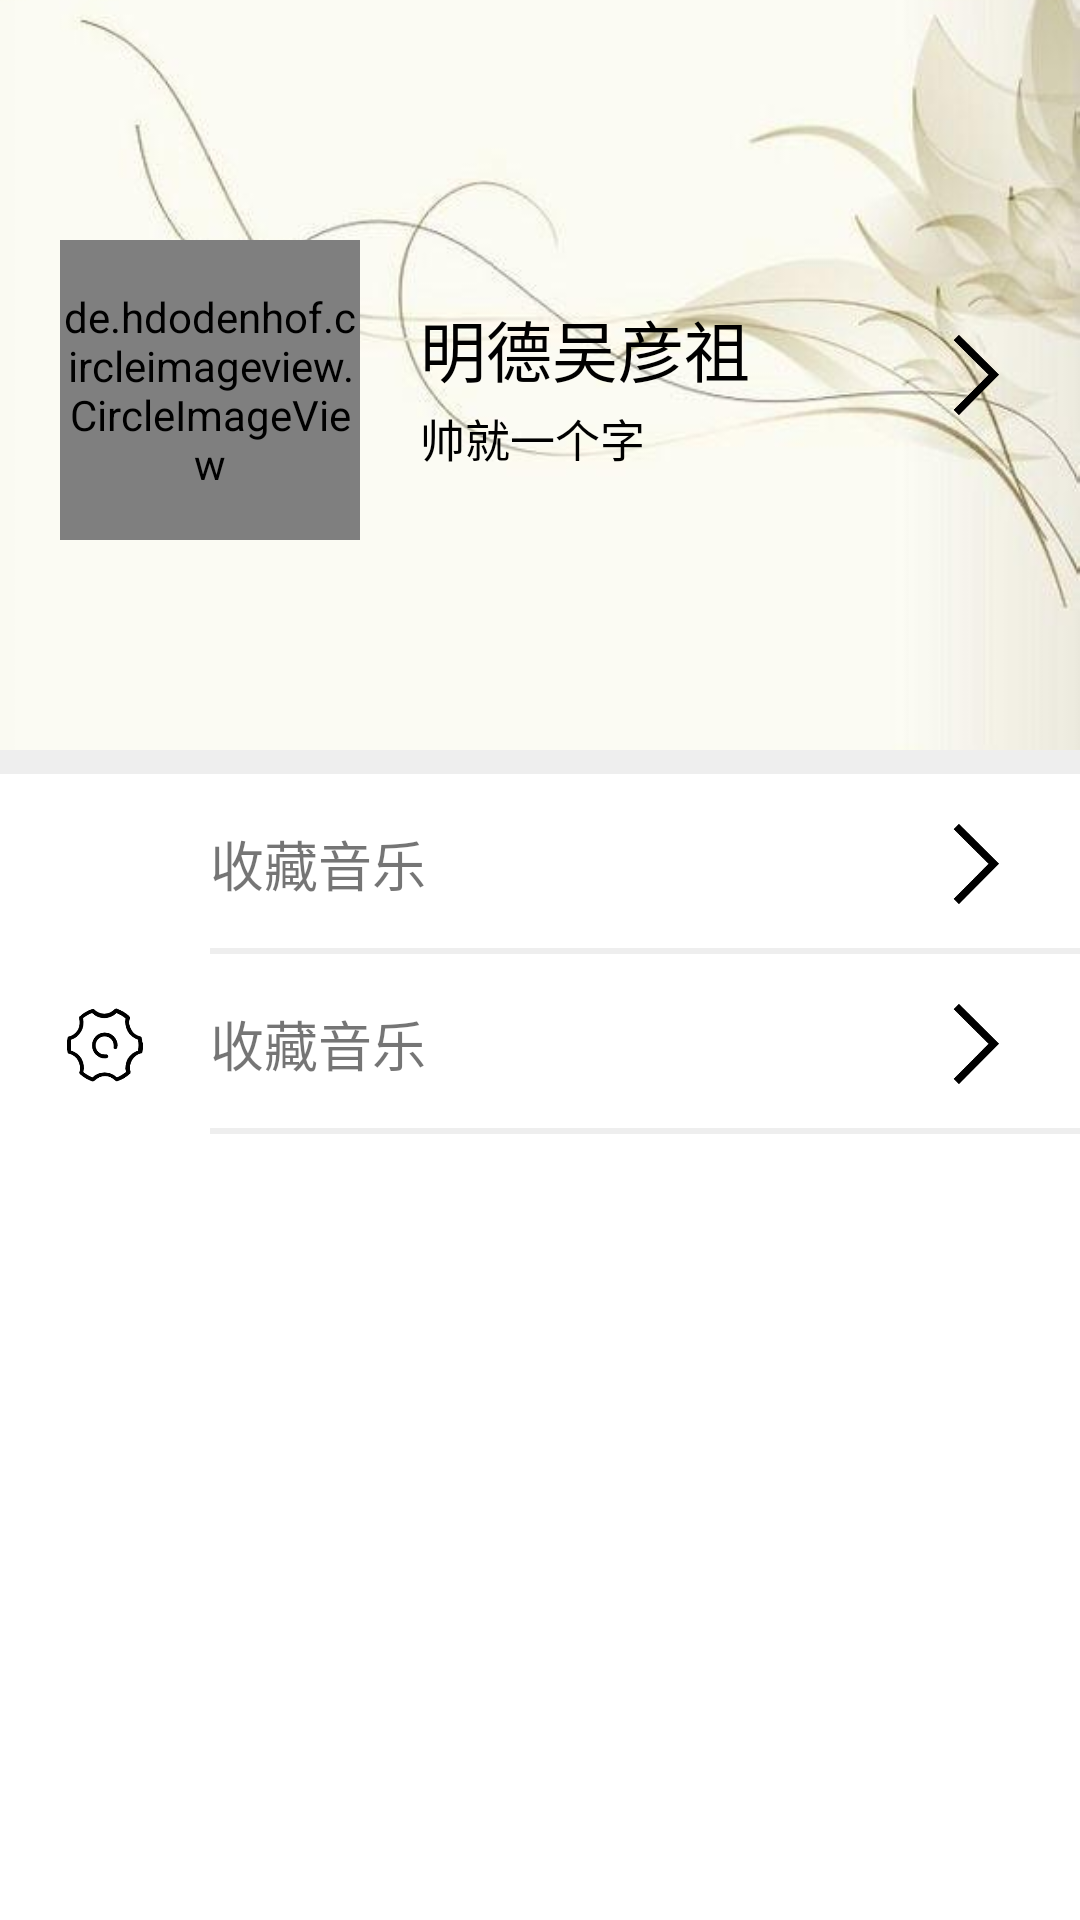

Named icons in this screenshot (1080px x 1920px) and their centers, point (x, y):
right back: point (975, 375), point (976, 864), point (976, 1044)
setting false: point (105, 1045)
